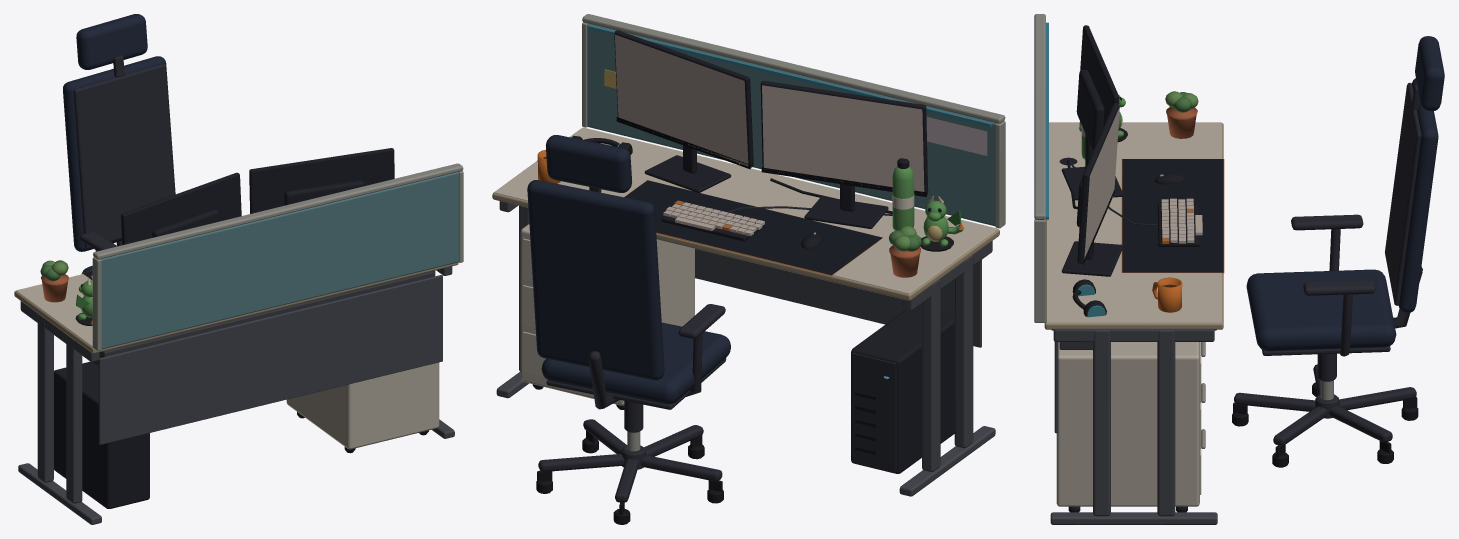
The model's file is hero-workstation.glb.
3 renders of one model, left to right at view 1: azimuth 30°, elevation 25°; view 2: azimuth 150°, elevation 25°; view 3: azimuth 270°, elevation 25°, orthographic. The views are drawn at different scales.
Parts seen in each view (by area): view 1: toon_metal, toon_fabric, toon_plastic, toon_wood, toon_leather, toon_brushed, toon_decor; view 2: toon_plastic (×2), toon_leather, toon_display, toon_fabric, toon_wood, toon_metal, toon_brushed, toon_decor, toon_light, toon_print, toon_foliage; view 3: toon_wood, toon_plastic (×2), toon_leather, toon_metal, toon_fabric, toon_brushed, toon_display, toon_decor, toon_light, toon_foliage.
Part boxes in pixels (<box>): toon_metal: <box>18,266,454,524</box>; toon_fabric: <box>81,172,458,349</box>; toon_plastic: <box>54,55,428,508</box>; toon_wood: <box>14,262,458,449</box>; toon_leather: <box>63,14,175,272</box>; toon_brushed: <box>92,163,463,351</box>; toon_decor: <box>41,274,92,325</box>; toon_plastic (×2): <box>532,30,954,524</box>; toon_leather: <box>527,135,730,404</box>; toon_display: <box>614,34,924,193</box>; toon_fabric: <box>571,23,996,275</box>; toon_wood: <box>492,127,999,405</box>; toon_metal: <box>496,201,995,496</box>; toon_brushed: <box>582,14,1005,451</box>; toon_decor: <box>537,150,964,277</box>; toon_light: <box>587,25,992,378</box>; toon_print: <box>926,116,987,155</box>; toon_foliage: <box>889,226,921,251</box>; toon_wood: <box>1044,122,1223,506</box>; toon_plastic (×2): <box>1059,25,1422,512</box>; toon_leather: <box>1246,36,1444,351</box>; toon_metal: <box>1050,329,1217,524</box>; toon_fabric: <box>1077,159,1224,317</box>; toon_brushed: <box>1034,14,1333,448</box>; toon_display: <box>1084,106,1119,258</box>; toon_decor: <box>1079,95,1197,312</box>; toon_light: <box>1046,22,1112,219</box>; toon_foliage: <box>1165,91,1198,112</box>.
Size of the model in its own units: 1.6 by 1.39 by 1.38.
